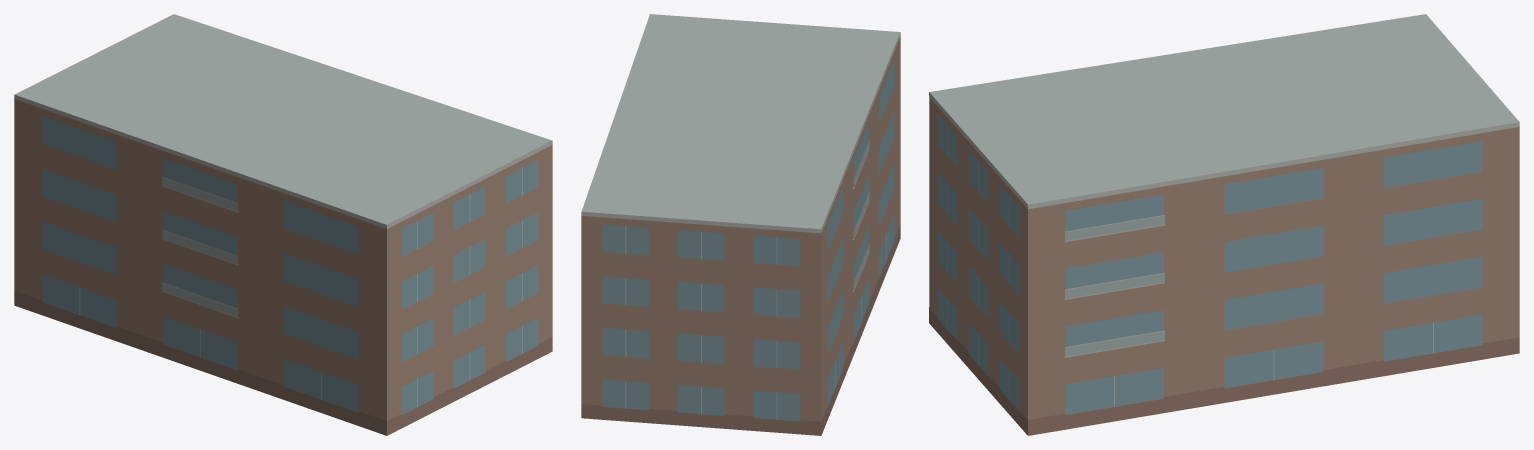
Rendered from survey-upis-32863556.glb.
The picture shows the model from 3 angles, left to right: view 1: azimuth 30°, elevation 25°; view 2: azimuth 150°, elevation 25°; view 3: azimuth 270°, elevation 25°; orthographic projection. The views are drawn at different scales.
Visible parts, largest first — view 1: survey-upis-32863556.tmp; view 2: survey-upis-32863556.tmp; view 3: survey-upis-32863556.tmp.
Part boxes in pixels (<box>): survey-upis-32863556.tmp: <box>14,14,552,435</box>; survey-upis-32863556.tmp: <box>581,14,900,435</box>; survey-upis-32863556.tmp: <box>929,14,1519,435</box>.
Size of the model in its own units: 21.59 by 12.2 by 28.25.
